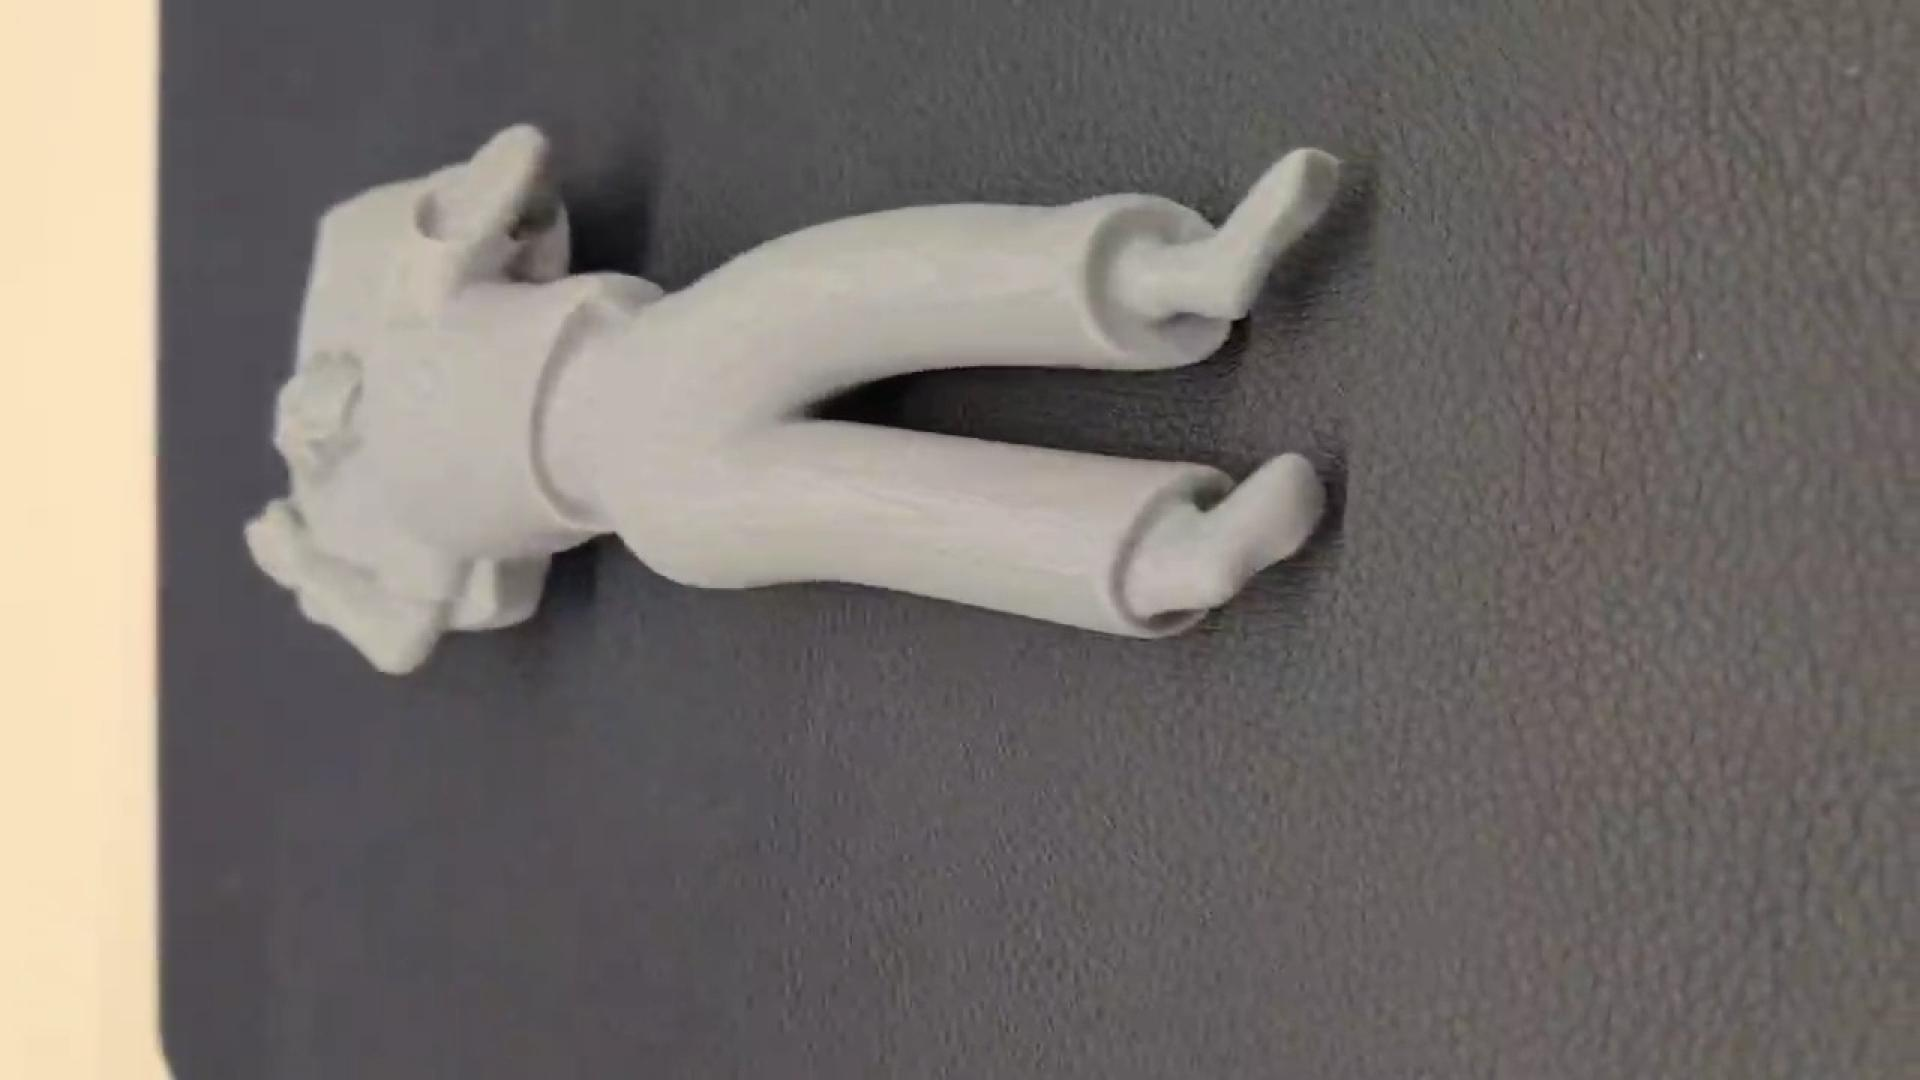Bad-style: (232, 125, 1344, 669)
